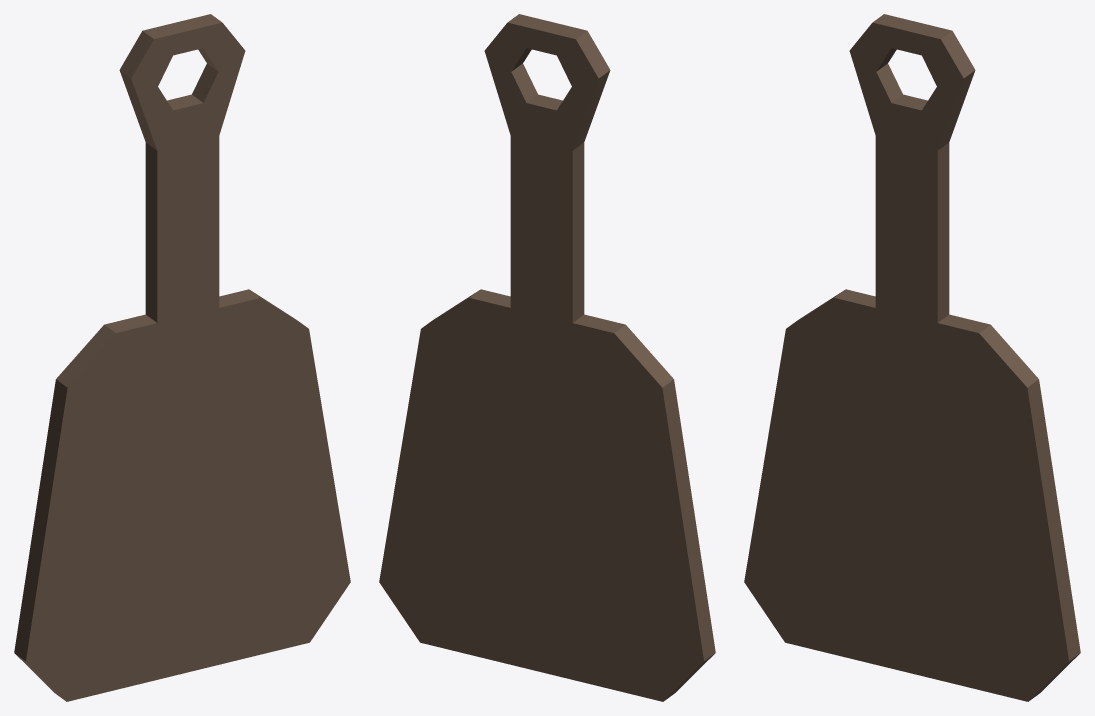
File: Cutting_board_1.fbx
3 renders of one model, left to right at view 1: azimuth 30°, elevation 25°; view 2: azimuth 150°, elevation 25°; view 3: azimuth 330°, elevation 25°, orthographic.
Parts seen in each view (by area): view 1: Cutting_board_1; view 2: Cutting_board_1; view 3: Cutting_board_1.
Boxes of the visible parts, bbox=[...] form: Cutting_board_1: bbox=[14, 14, 350, 701]; Cutting_board_1: bbox=[379, 14, 715, 701]; Cutting_board_1: bbox=[744, 14, 1080, 701].
Size of the model in its own units: 31.21 by 1.95 by 58.87.
